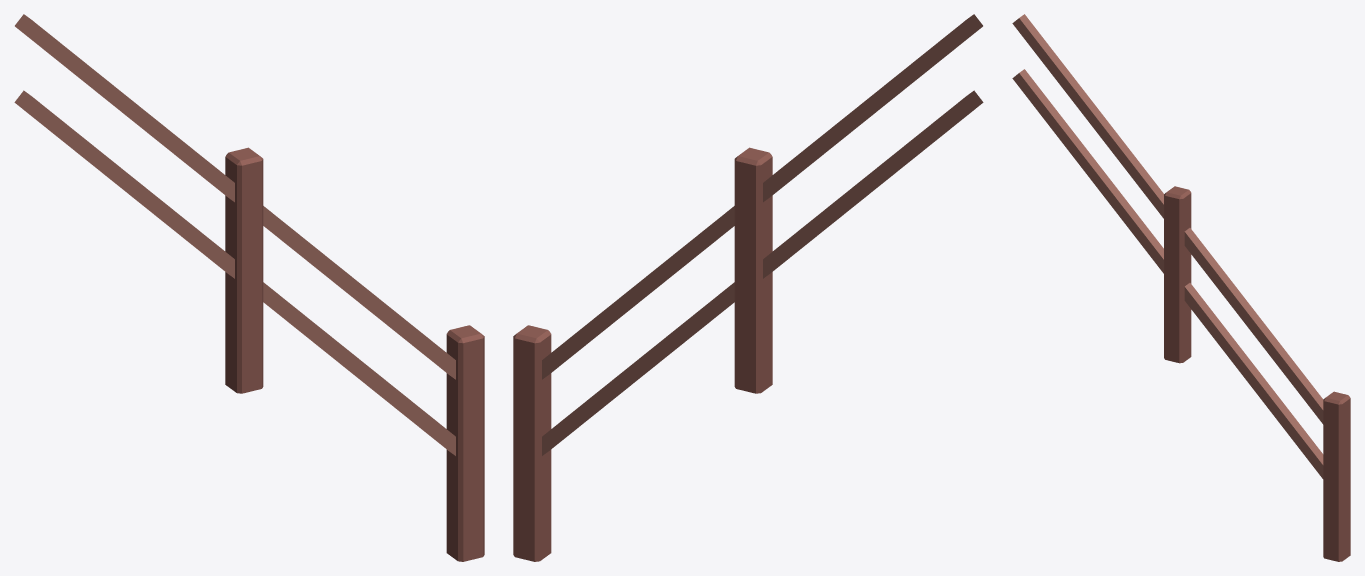
File: Railing_Angle.fbx
The picture shows the model from 3 angles, left to right: view 1: azimuth 30°, elevation 25°; view 2: azimuth 150°, elevation 25°; view 3: azimuth 330°, elevation 25°; orthographic projection. The views are drawn at different scales.
Parts seen in each view (by area): view 1: Railing_Angle; view 2: Railing_Angle; view 3: Railing_Angle.
Boxes of the visible parts, left/top/right/bottom form: Railing_Angle: left=14, top=14, right=484, bottom=561; Railing_Angle: left=513, top=14, right=983, bottom=561; Railing_Angle: left=1012, top=14, right=1350, bottom=561.
Bounding box in the file's own units: 2.08 × 0.12 × 2.78.
